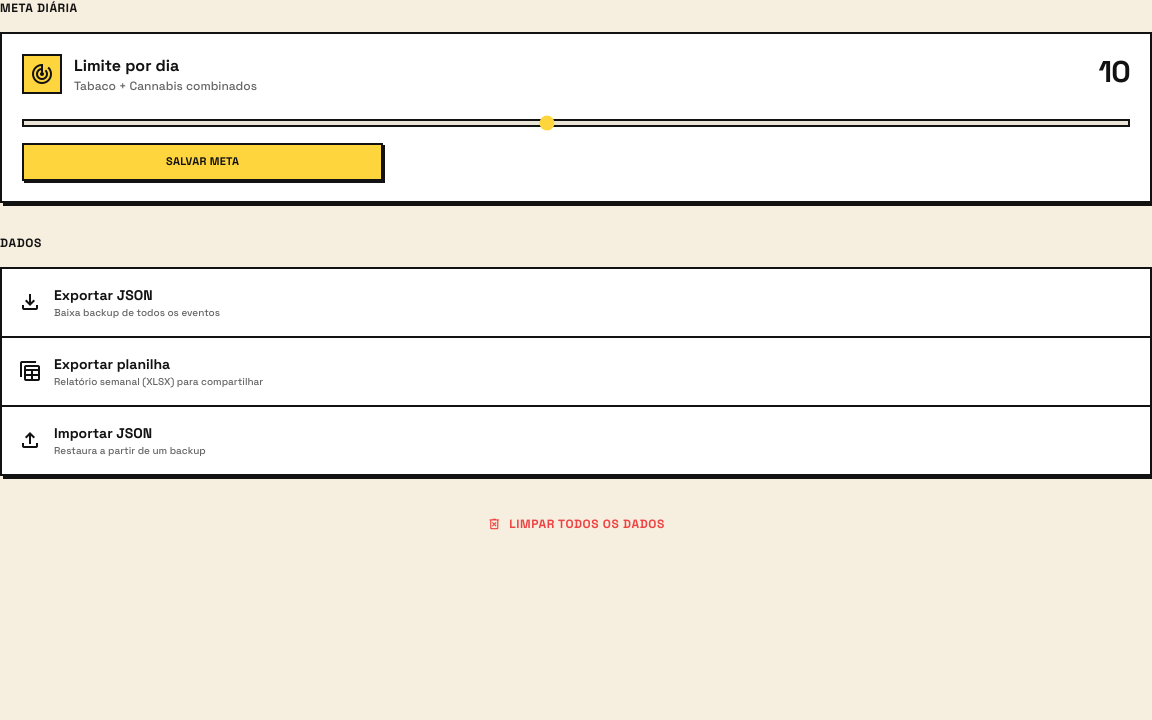
Test case: GoalsContent › export planilha › shortcuts only fill the inputs — nothing is exported until Exportar is clicked
Click the button "Exportar planilha Relatório semanal (XLSX) para compartilhar": click(112, 364) [2,338,1150,407]
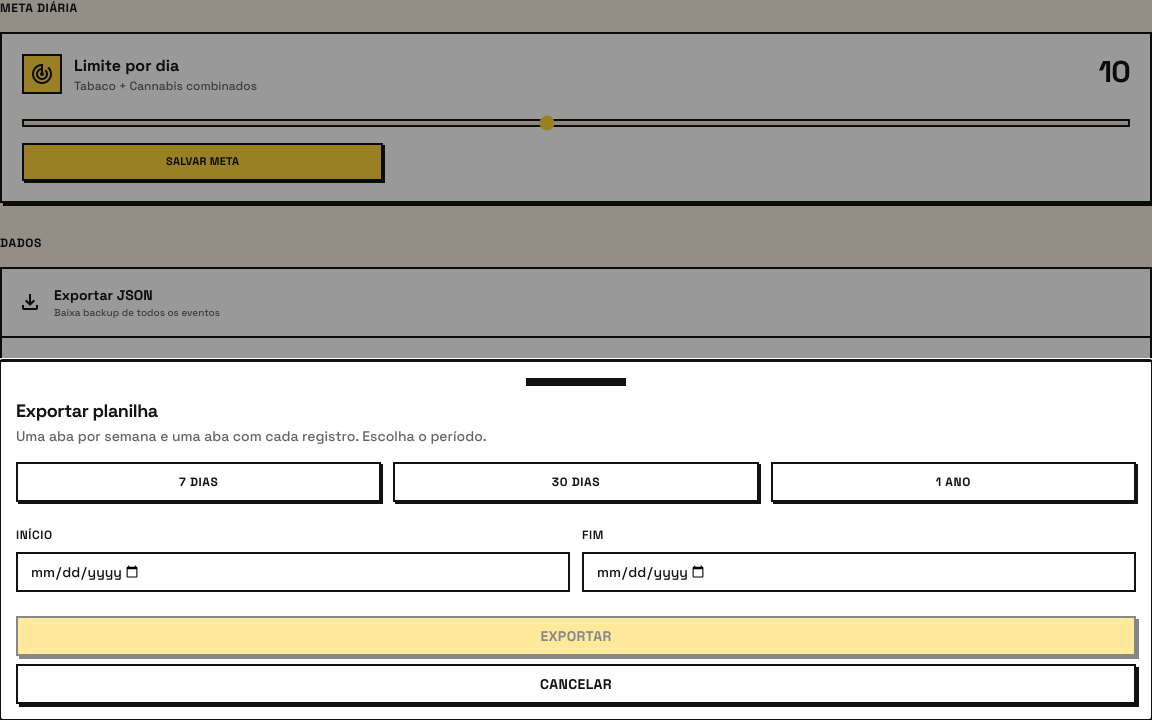
Click the button "7 dias": click(199, 482) [16,462,381,502]
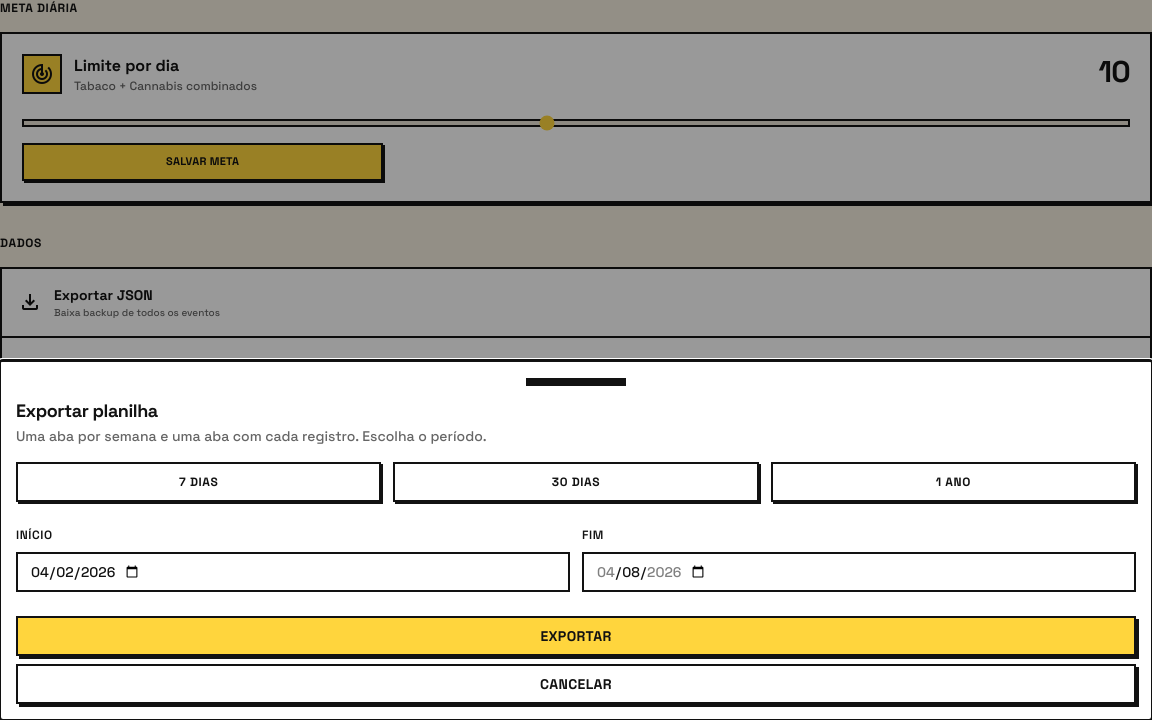
Result: the date field labelled "Início" holds "2026-04-02" at [16,552,570,592]
Result: the date field labelled "Fim" holds "2026-04-08" at [582,552,1136,592]
Click the button "1 ano": click(953, 482) [771,462,1136,502]
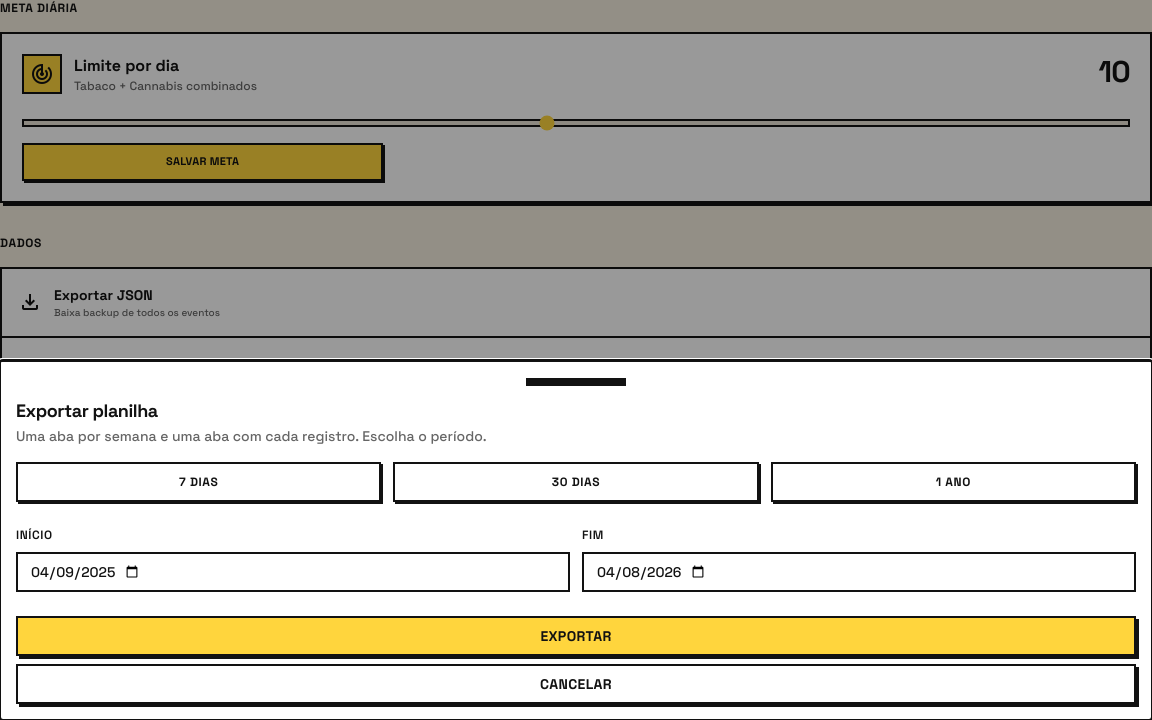
Result: the date field labelled "Início" holds "2025-04-09" at [16,552,570,592]
